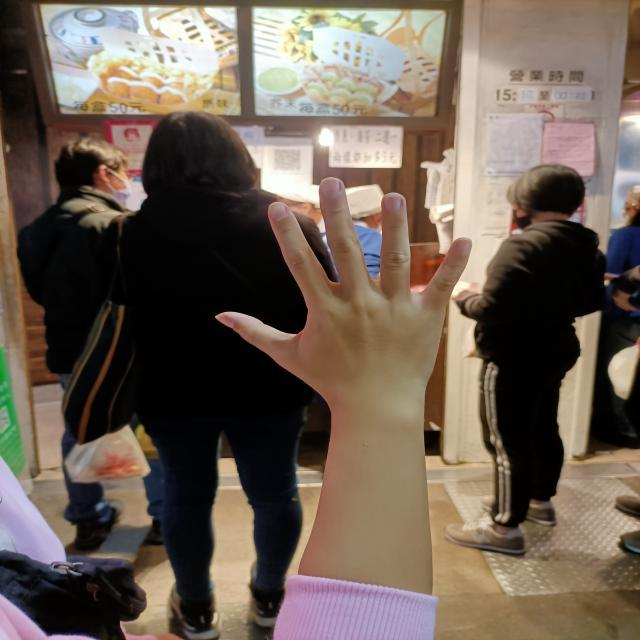no-gloves: (215, 175, 473, 400)
